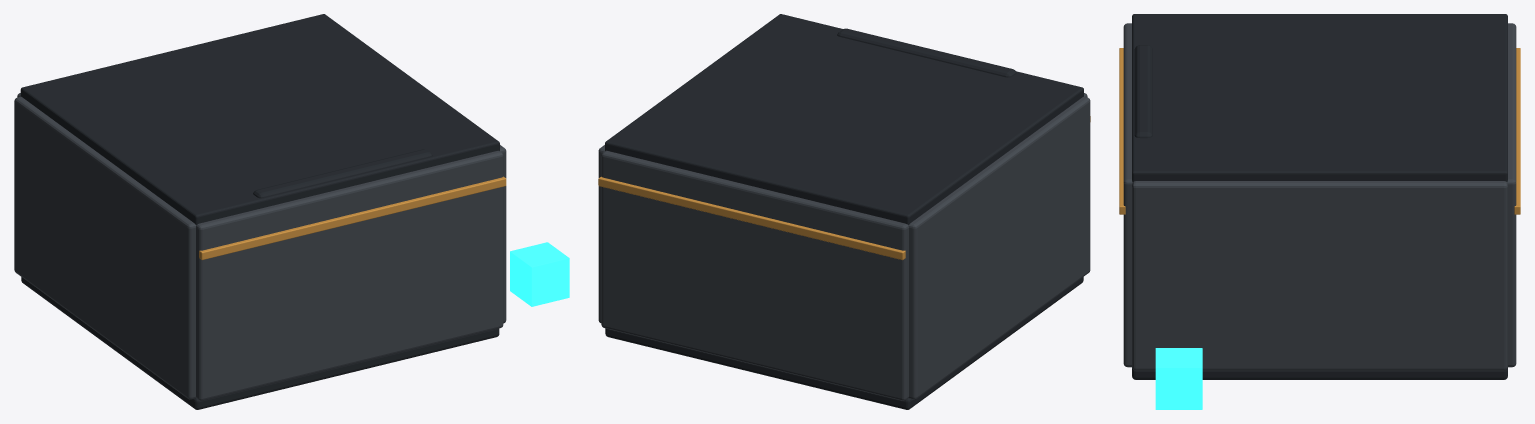
File: BHC_ENV_MODULAR_KIT.fbx
The picture shows the model from 3 angles, left to right: view 1: azimuth 30°, elevation 25°; view 2: azimuth 150°, elevation 25°; view 3: azimuth 270°, elevation 25°; orthographic projection. The views are drawn at different scales.
Visible parts, largest first — view 1: SM_BHC_Ceiling_Panel, SM_BHC_Wall_8m, SM_BHC_Wall_8m.002, SM_BHC_Floor_8m, SM_BHC_Reference_1m, SM_BHC_Wall_Trim, SM_BHC_Entrance_Portal, SM_BHC_Wall_8m.003; view 2: SM_BHC_Ceiling_Panel, SM_BHC_Wall_8m.001, SM_BHC_Wall_8m.002, SM_BHC_Floor_8m, SM_BHC_Wall_Trim.001, SM_BHC_Entrance_Portal, SM_BHC_Wall_8m.003; view 3: SM_BHC_Wall_8m.003, SM_BHC_Ceiling_Panel, SM_BHC_Floor_8m, SM_BHC_Wall_8m, SM_BHC_Wall_8m.001, SM_BHC_Reference_1m, SM_BHC_Entrance_Portal, SM_BHC_Wall_Trim, SM_BHC_Wall_Trim.001.
Part boxes in pixels (<box>): SM_BHC_Ceiling_Panel: <box>20,14,499,225</box>; SM_BHC_Wall_8m: <box>196,150,503,400</box>; SM_BHC_Wall_8m.002: <box>14,96,196,399</box>; SM_BHC_Floor_8m: <box>21,277,499,409</box>; SM_BHC_Reference_1m: <box>510,242,569,306</box>; SM_BHC_Wall_Trim: <box>199,176,506,260</box>; SM_BHC_Entrance_Portal: <box>253,149,432,198</box>; SM_BHC_Wall_8m.003: <box>500,145,506,323</box>; SM_BHC_Ceiling_Panel: <box>605,14,1083,225</box>; SM_BHC_Wall_8m.001: <box>601,150,908,400</box>; SM_BHC_Wall_8m.002: <box>908,96,1090,399</box>; SM_BHC_Floor_8m: <box>605,277,1083,409</box>; SM_BHC_Wall_Trim.001: <box>598,176,905,260</box>; SM_BHC_Entrance_Portal: <box>837,28,1016,77</box>; SM_BHC_Wall_8m.003: <box>598,145,604,322</box>; SM_BHC_Wall_8m.003: <box>1132,181,1507,370</box>; SM_BHC_Ceiling_Panel: <box>1132,14,1507,181</box>; SM_BHC_Floor_8m: <box>1132,368,1507,379</box>; SM_BHC_Wall_8m: <box>1123,23,1132,367</box>; SM_BHC_Wall_8m.001: <box>1507,23,1516,367</box>; SM_BHC_Reference_1m: <box>1155,348,1202,409</box>; SM_BHC_Entrance_Portal: <box>1134,45,1152,138</box>; SM_BHC_Wall_Trim: <box>1119,48,1125,214</box>; SM_BHC_Wall_Trim.001: <box>1514,48,1520,214</box>.
Size of the model in its own units: 10.28 by 5 by 8.54.
